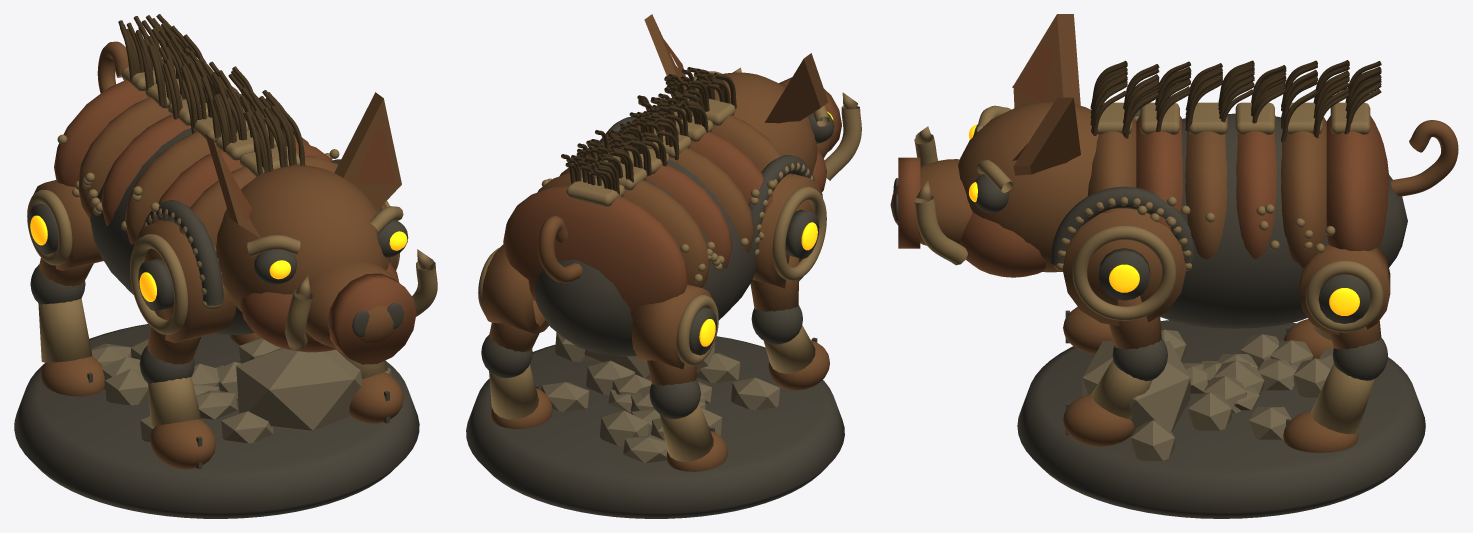
3 renders of one model, left to right at view 1: azimuth 30°, elevation 25°; view 2: azimuth 150°, elevation 25°; view 3: azimuth 270°, elevation 25°, orthographic. The views are drawn at different scales.
Visible parts, largest first — view 1: round display base, head armored skull, large rock supporting foreleg, snout metal disc, round shoulder outer, overlapping back armor, overlapping back armor.001, snout bridge, overlapping back armor.003, boar barrel torso, tall pointed ear.001, overlapping back armor.002 (+37 smaller); view 2: round display base, overlapping back armor, boar barrel torso, head armored skull, overlapping back armor.001, round shoulder outer.003, round shoulder outer.001, overlapping back armor.002, overlapping back armor.003, shoulder machined rim, round shoulder outer, tall pointed ear (+34 smaller); view 3: round display base, boar barrel torso, head armored skull, overlapping back armor, overlapping back armor.001, round shoulder outer.002, overlapping back armor.003, overlapping back armor.002, shoulder machined rim.002, large rock supporting foreleg, broad cheek armor, overlapping back armor.004 (+40 smaller).
Part boxes in pixels (x1=…): round display base: x1=14, y1=324, x2=419, y2=518; head armored skull: x1=216, y1=165, x2=389, y2=311; large rock supporting foreleg: x1=236, y1=347, x2=362, y2=430; snout metal disc: x1=327, y1=273, x2=416, y2=364; round shoulder outer: x1=134, y1=220, x2=236, y2=343; overlapping back armor: x1=54, y1=80, x2=237, y2=186; overlapping back armor.001: x1=78, y1=94, x2=242, y2=219; snout bridge: x1=305, y1=261, x2=396, y2=348; overlapping back armor.003: x1=125, y1=122, x2=309, y2=244; boar barrel torso: x1=90, y1=115, x2=254, y2=334; tall pointed ear.001: x1=334, y1=92, x2=401, y2=210; overlapping back armor.002: x1=101, y1=106, x2=264, y2=225; round display base: x1=466, y1=336, x2=844, y2=518; overlapping back armor: x1=503, y1=186, x2=687, y2=318; boar barrel torso: x1=534, y1=160, x2=756, y2=356; head armored skull: x1=672, y1=72, x2=817, y2=173; overlapping back armor.001: x1=537, y1=170, x2=710, y2=287; round shoulder outer.003: x1=481, y1=244, x2=549, y2=334; round shoulder outer.001: x1=631, y1=284, x2=712, y2=369; overlapping back armor.002: x1=559, y1=155, x2=732, y2=268; overlapping back armor.003: x1=590, y1=142, x2=754, y2=252; shoulder machined rim: x1=772, y1=186, x2=826, y2=280; round shoulder outer: x1=752, y1=174, x2=822, y2=288; tall pointed ear: x1=764, y1=53, x2=828, y2=123; round display base: x1=1017, y1=320, x2=1425, y2=518; boar barrel torso: x1=1160, y1=113, x2=1407, y2=328; head armored skull: x1=958, y1=101, x2=1098, y2=272; overlapping back armor: x1=1326, y1=115, x2=1389, y2=251; overlapping back armor.001: x1=1281, y1=117, x2=1326, y2=268; round shoulder outer.002: x1=1063, y1=208, x2=1185, y2=325; overlapping back armor.003: x1=1185, y1=131, x2=1227, y2=259; overlapping back armor.002: x1=1236, y1=115, x2=1276, y2=259; shoulder machined rim.002: x1=1072, y1=225, x2=1176, y2=320; large rock supporting foreleg: x1=1082, y1=341, x2=1190, y2=435; broad cheek armor: x1=960, y1=212, x2=1045, y2=277; overlapping back armor.004: x1=1136, y1=115, x2=1182, y2=231.
Size of the model in its own units: 0.7191 by 0.74 by 1.
